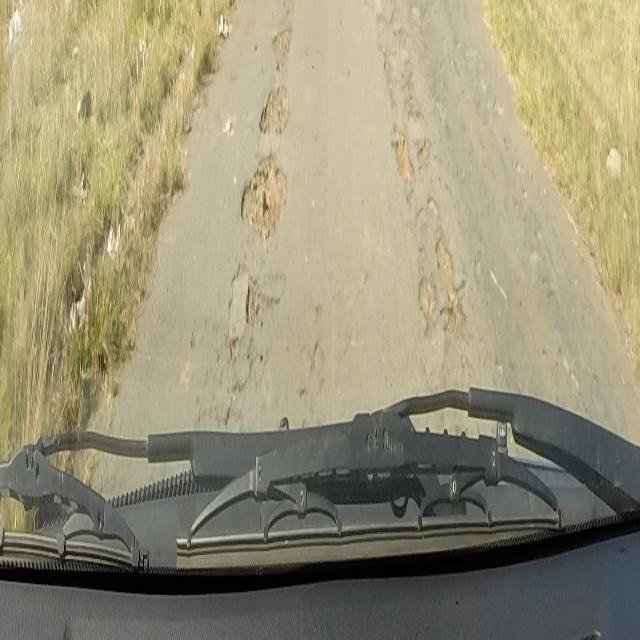pothole: (236, 138, 287, 335), (413, 231, 464, 327), (260, 74, 290, 138), (390, 124, 420, 188), (268, 19, 292, 80)
